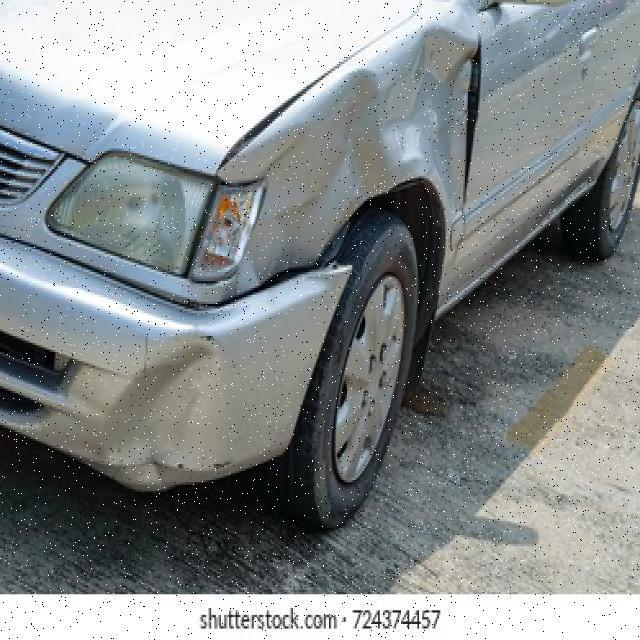fender-dent: (248, 54, 468, 274)
front-bumper-dent: (1, 283, 327, 496)
